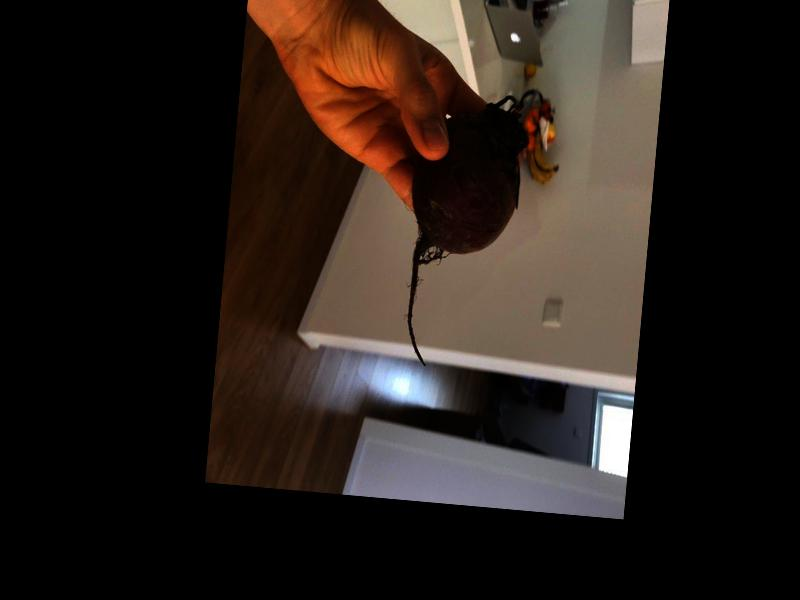Beet: (397, 89, 530, 374)
